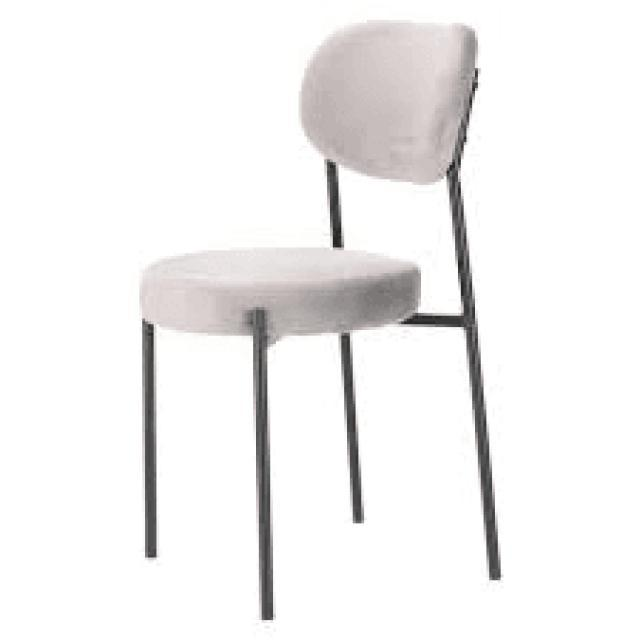chair: (134, 12, 511, 621), (142, 16, 497, 336)
